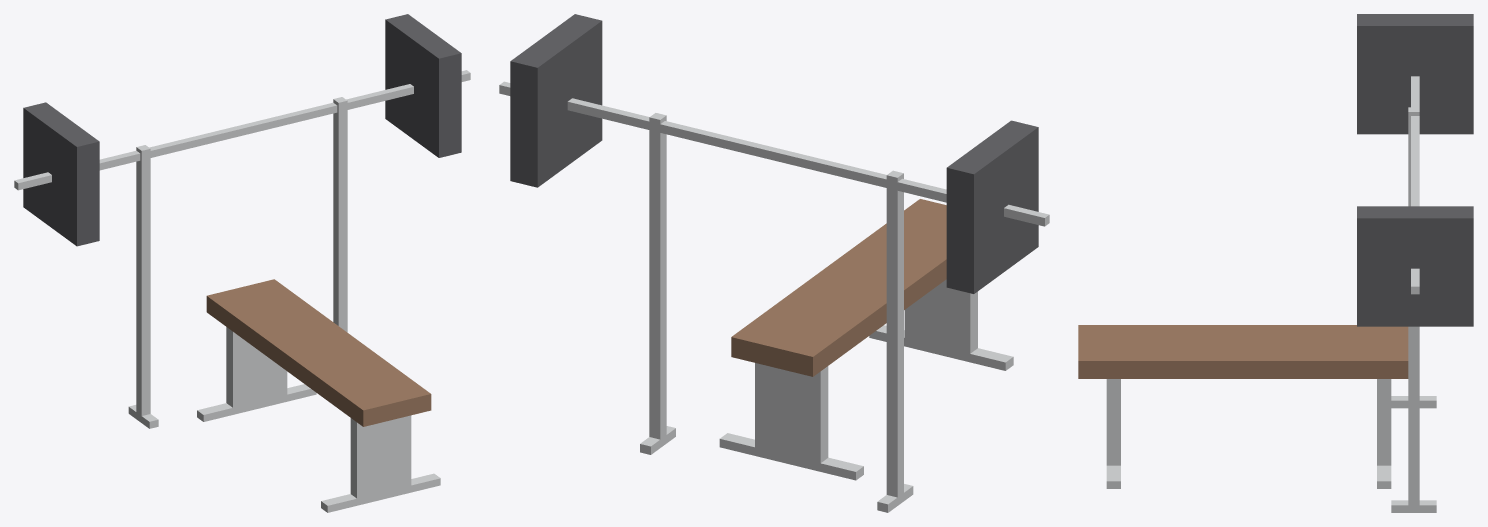
Rendered from Weight_Bench.fbx.
3 views of the same model, side by side, from view 1: azimuth 30°, elevation 25°; view 2: azimuth 150°, elevation 25°; view 3: azimuth 270°, elevation 25° (orthographic). The views are drawn at different scales.
Parts seen in each view (by area): view 1: Weight_Bench; view 2: Weight_Bench; view 3: Weight_Bench.
Boxes of the visible parts, left/top/right/bottom form: Weight_Bench: left=14, top=14, right=470, bottom=512; Weight_Bench: left=499, top=14, right=1049, bottom=512; Weight_Bench: left=1078, top=14, right=1473, bottom=512.
Bounding box in the file's own units: 2 × 1.33 × 1.39.
